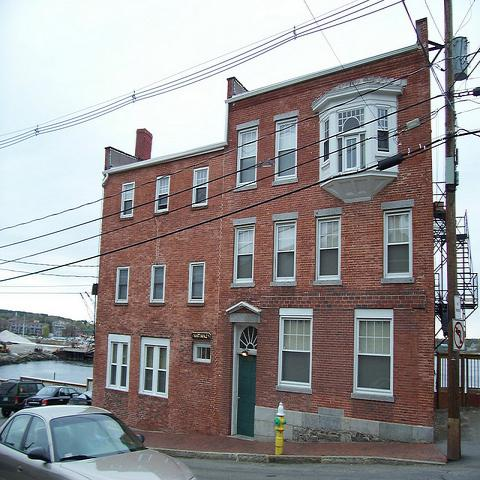car: (0, 403, 199, 479), (0, 382, 44, 417), (22, 386, 82, 409)
